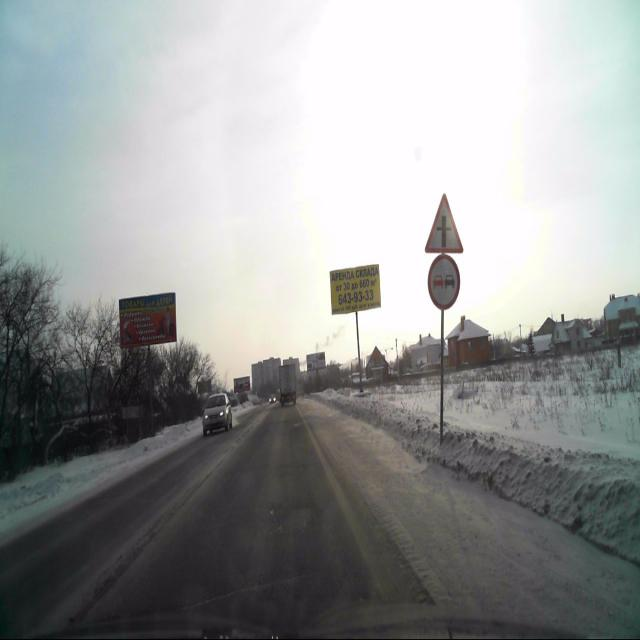object: (440, 310, 444, 444)
road sign: (424, 194, 462, 254)
